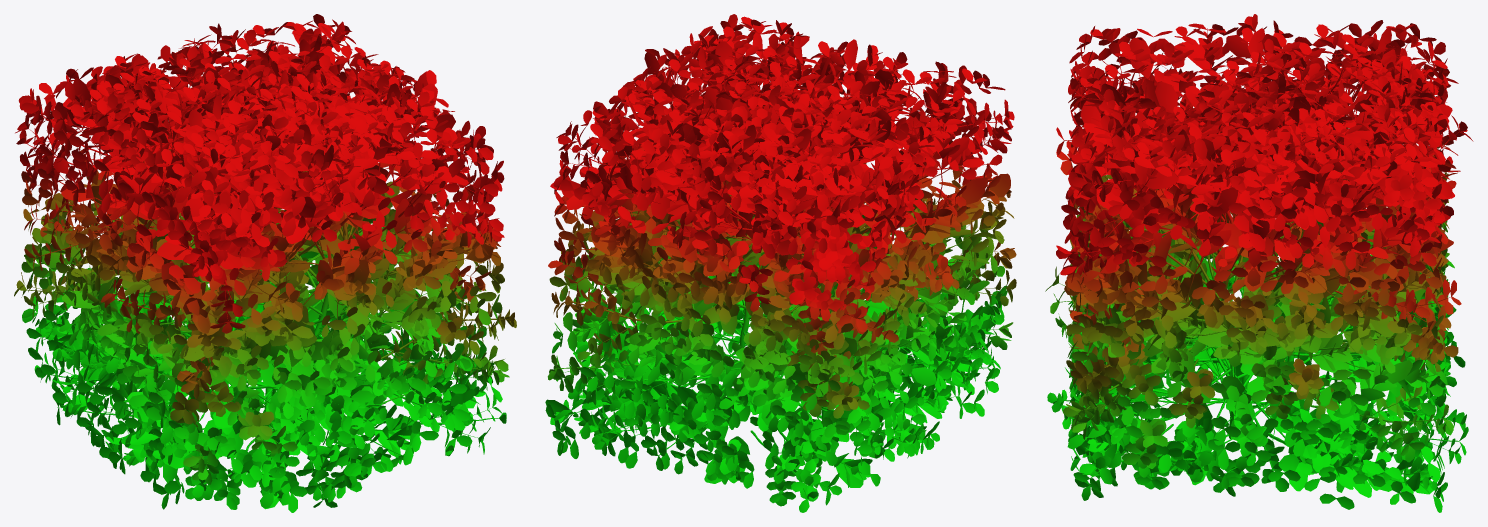
Rendered from Var6_LOD1.fbx.
3 views of the same model, side by side, from view 1: azimuth 30°, elevation 25°; view 2: azimuth 150°, elevation 25°; view 3: azimuth 270°, elevation 25° (orthographic). The views are drawn at different scales.
Parts seen in each view (by area): view 1: _2p1w_Var6_LOD1; view 2: _2p1w_Var6_LOD1; view 3: _2p1w_Var6_LOD1.
Part boxes in pixels (x1,y1,x2,y2): _2p1w_Var6_LOD1: [14, 14, 516, 512]; _2p1w_Var6_LOD1: [545, 14, 1016, 512]; _2p1w_Var6_LOD1: [1045, 14, 1473, 512].
Bounding box in the file's own units: 62.84 × 60.22 × 63.85.
